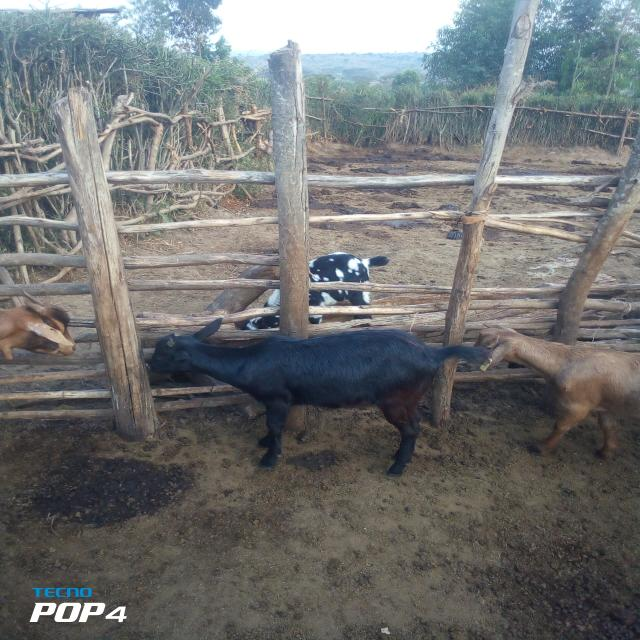goat: (125, 271, 510, 511)
